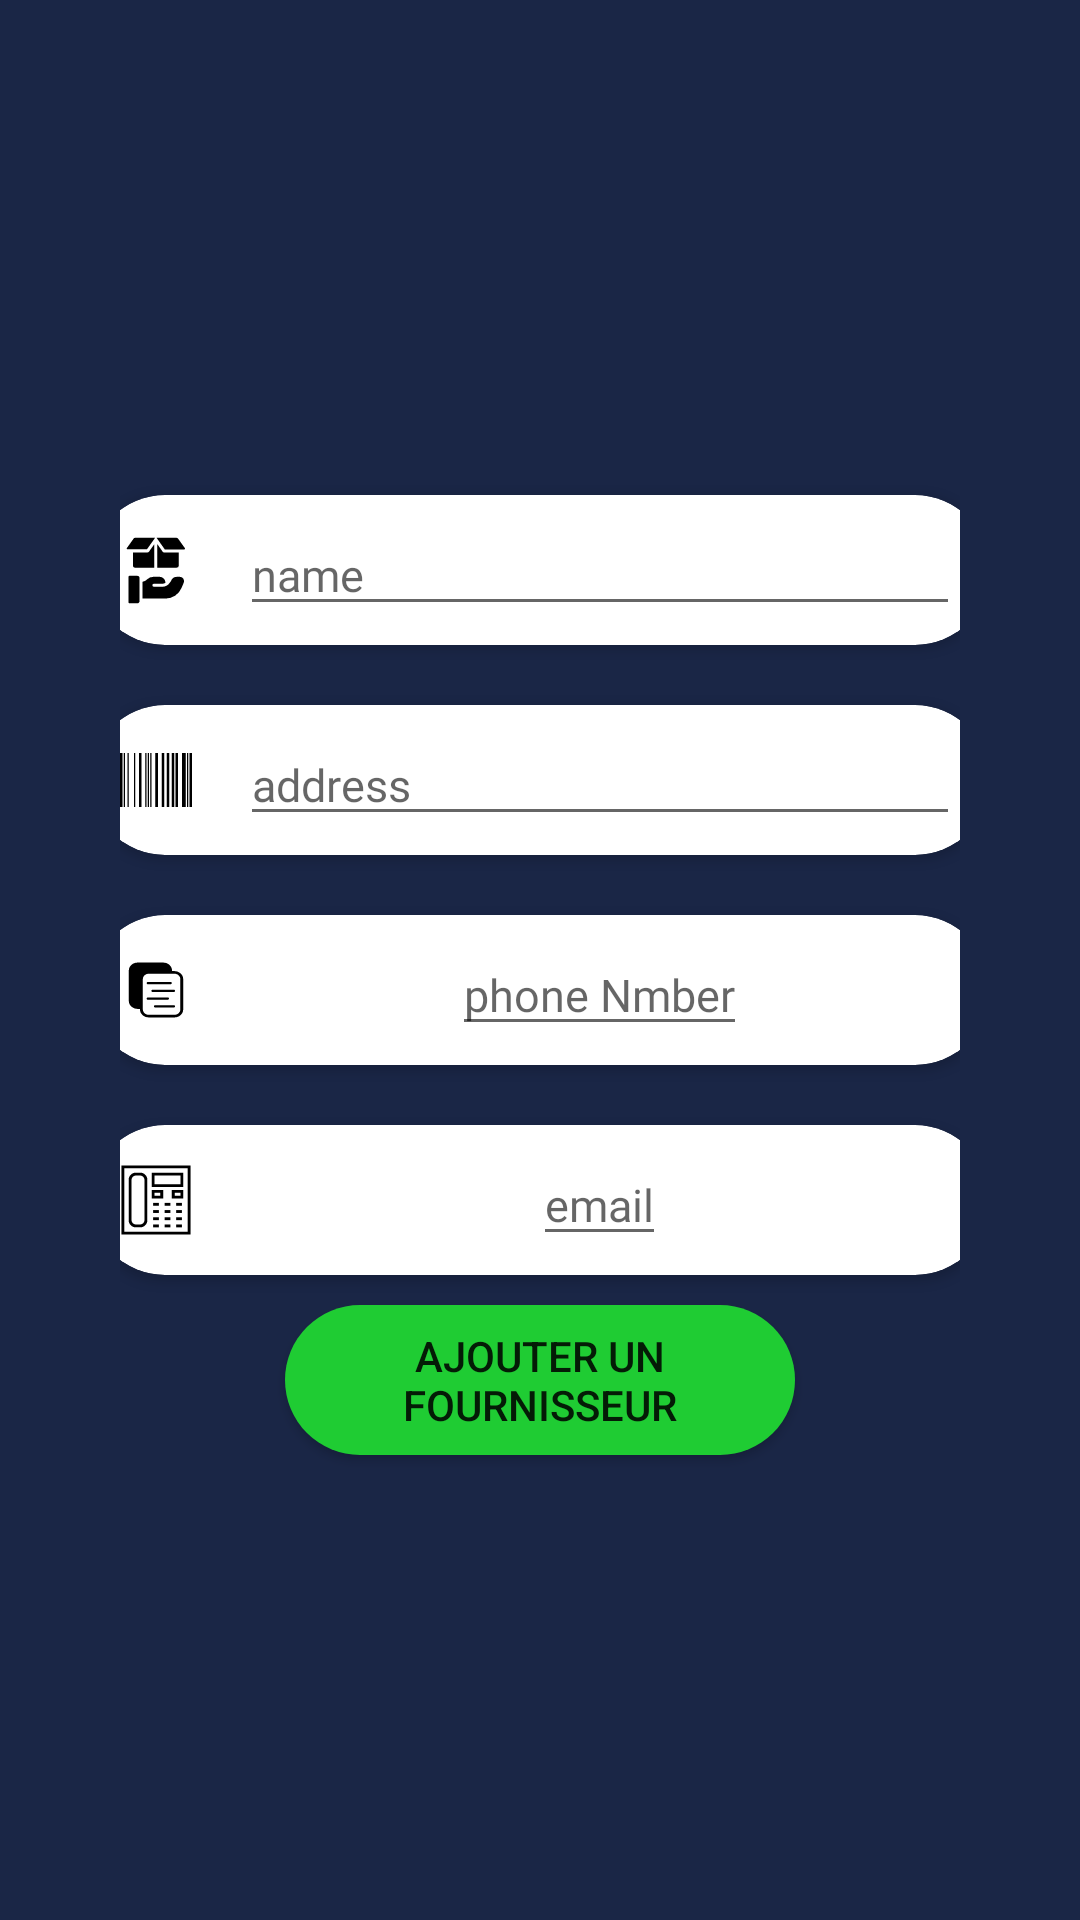

Icon click points for this 1080*1920 phone screenshot, format [x,y]:
code: [159,780]
description: [156,990]
product: [155,570]
